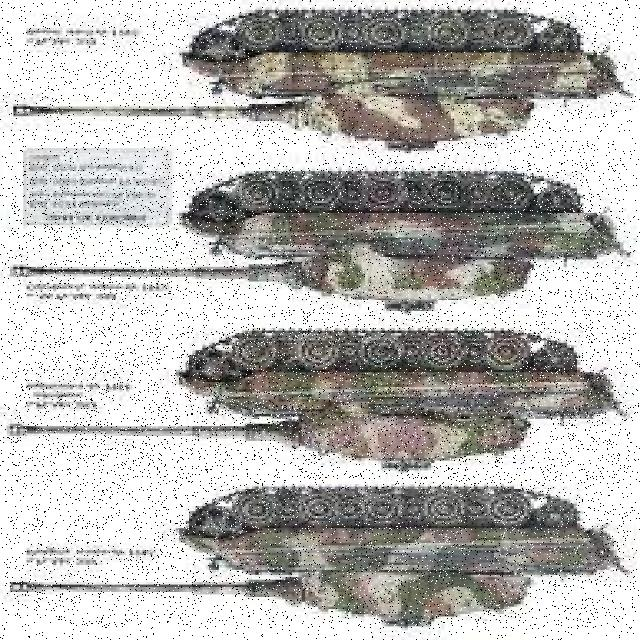MIL_MBT: (7, 307, 633, 477), (5, 477, 635, 628), (10, 11, 623, 154), (7, 161, 623, 300)
